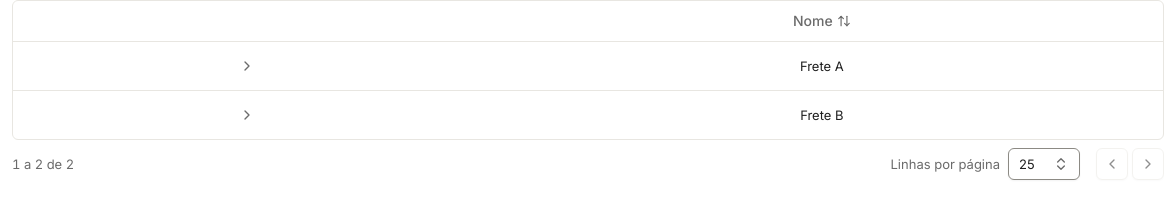
DataTable com linhaExpandida › abre a linha embaixo, na largura toda, e fecha no segundo clique
Step 1. Click the button named "Expandir detalhes" in the row of "Frete A" → [247, 66], box [231, 50, 263, 82]
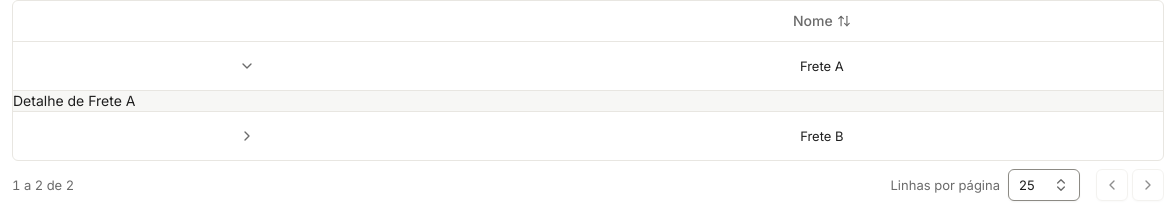
Check: the row "Frete B" is shown, box [13, 111, 1163, 160]
Check: the button named "Recolher detalhes" is expanded
Step 2. Click the button named "Recolher detalhes" → [247, 66], box [231, 50, 263, 82]
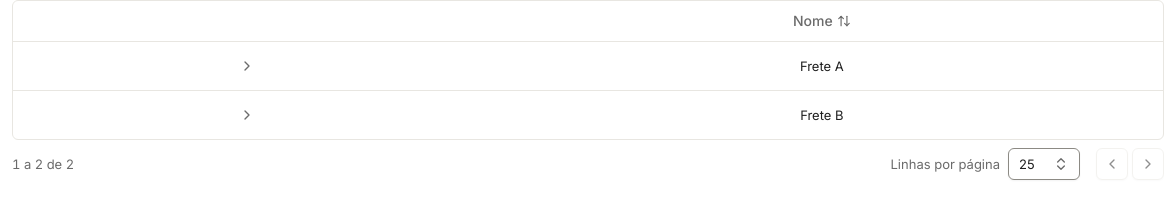
Check: the text "Detalhe de Frete A" is gone
